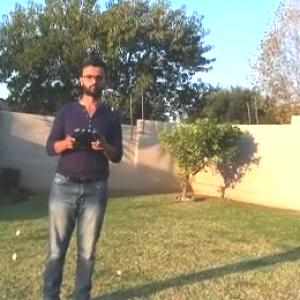follow: (30, 51, 126, 299)
